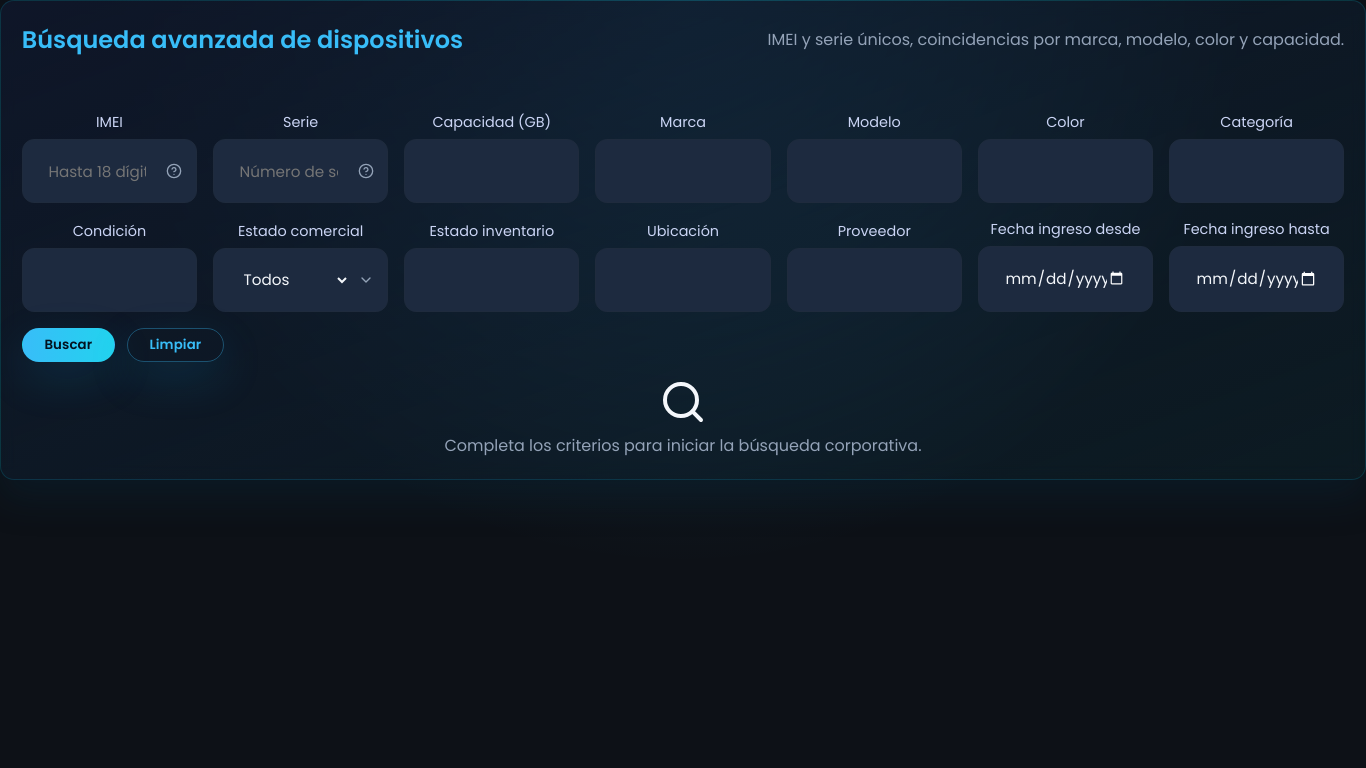
AdvancedSearch › muestra un error cuando no se proporcionan filtros
Click the button "Buscar" at (68, 345), box top-left (22, 328), bottom-right (115, 362)
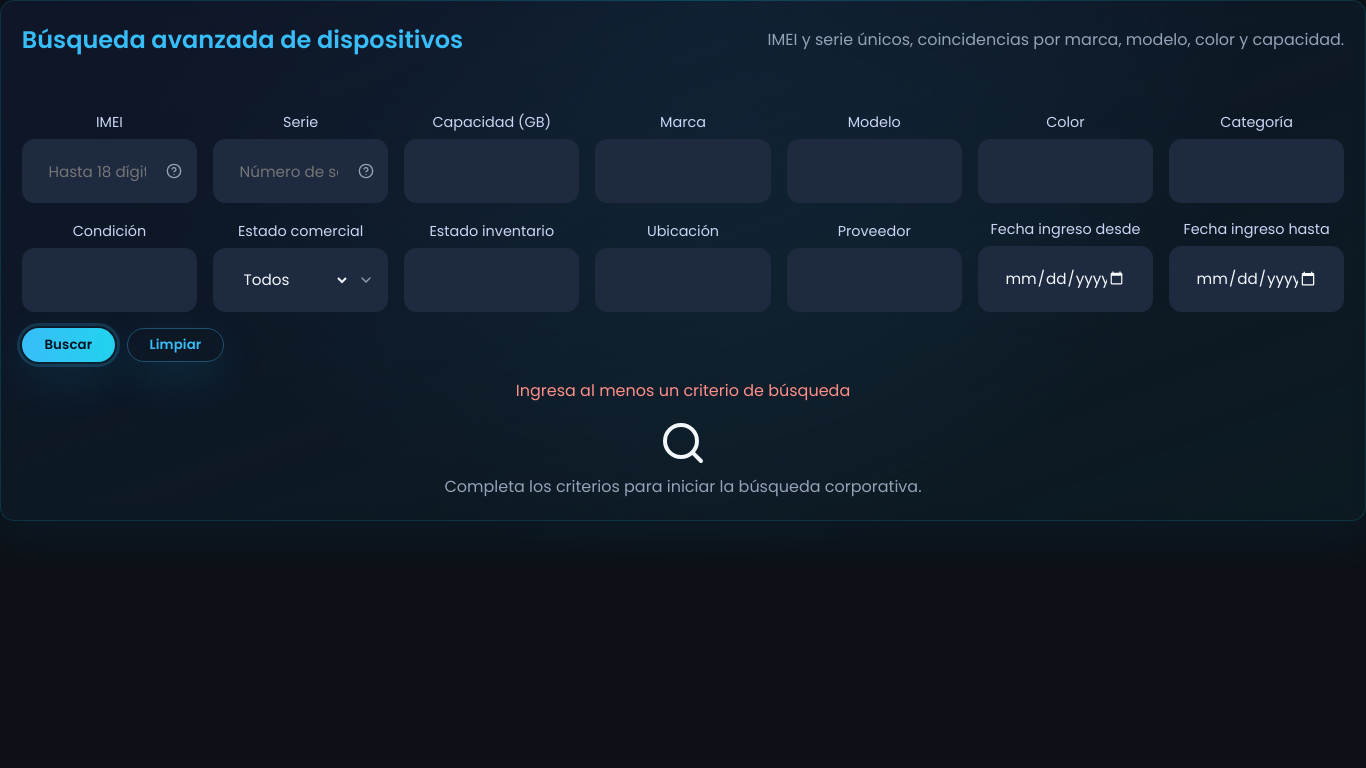
expect the text "Ingresa al menos un criterio de búsqueda" is shown: met, box top-left (516, 379), bottom-right (850, 402)
